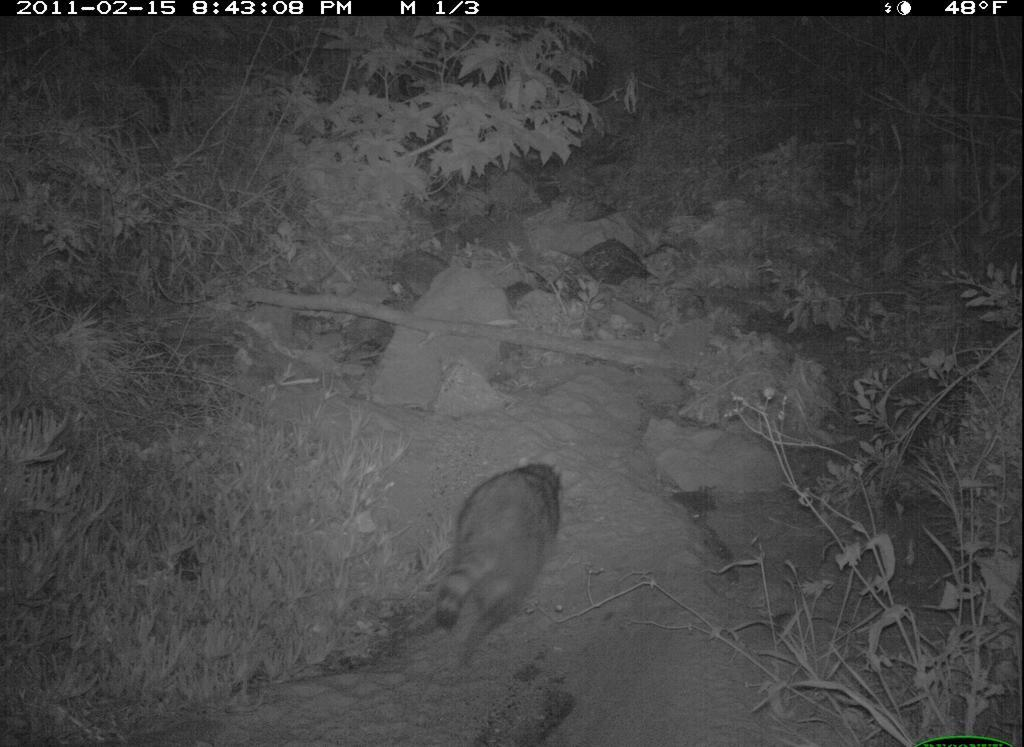raccoon: (424, 456, 570, 658)
